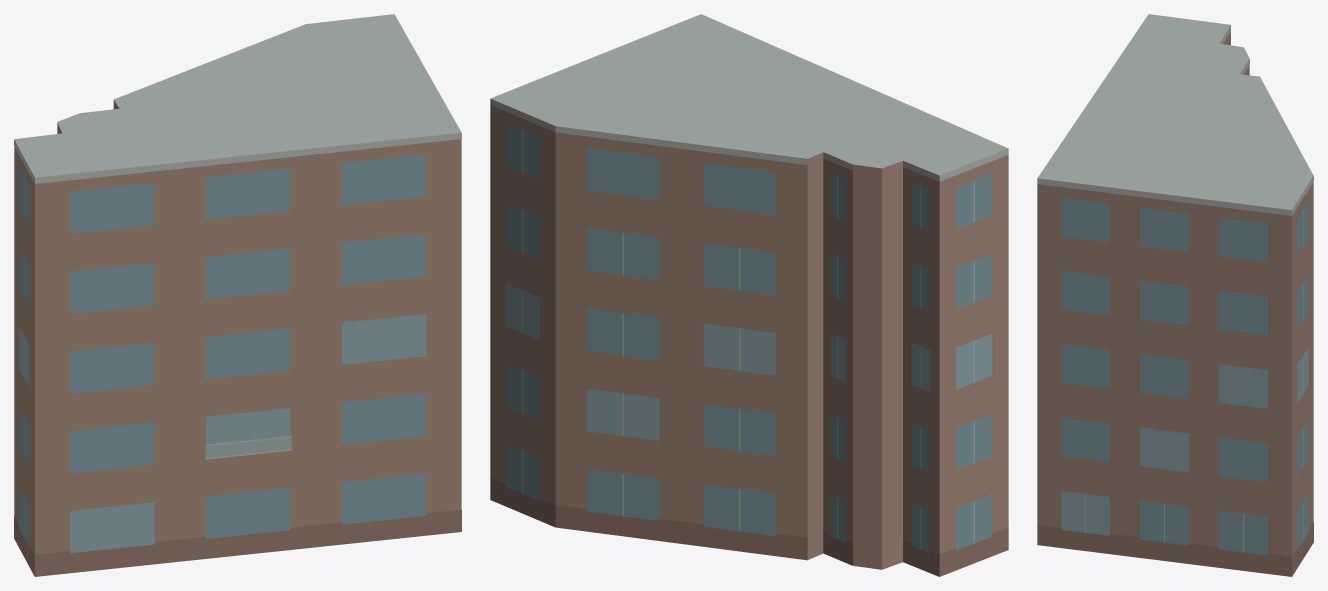
Rendered from survey-upis-32872244.glb.
3 renders of one model, left to right at view 1: azimuth 30°, elevation 25°; view 2: azimuth 150°, elevation 25°; view 3: azimuth 270°, elevation 25°, orthographic. The views are drawn at different scales.
Parts seen in each view (by area): view 1: survey-upis-32872244.tmp; view 2: survey-upis-32872244.tmp; view 3: survey-upis-32872244.tmp.
Part boxes in pixels (x1,y1,x2,y2): survey-upis-32872244.tmp: (14,14,461,576); survey-upis-32872244.tmp: (490,14,1008,576); survey-upis-32872244.tmp: (1037,14,1313,576).
Bounding box in the file's own units: 17.91 × 15.6 × 10.67.
